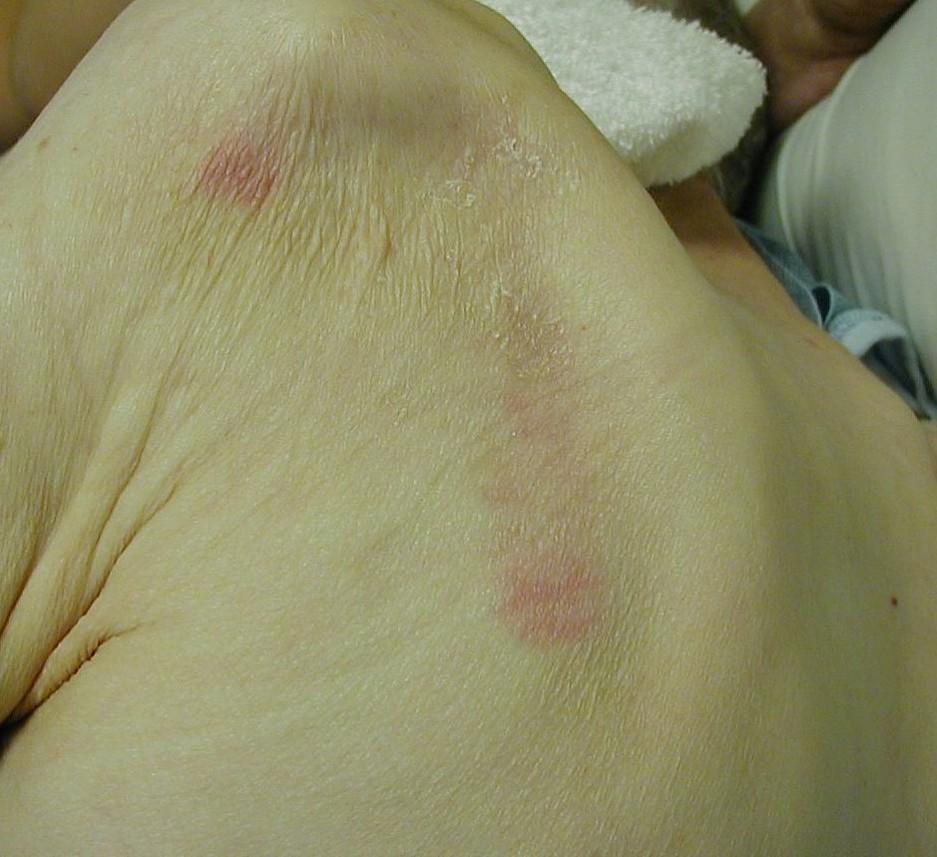Stage1: (117, 87, 747, 733)
